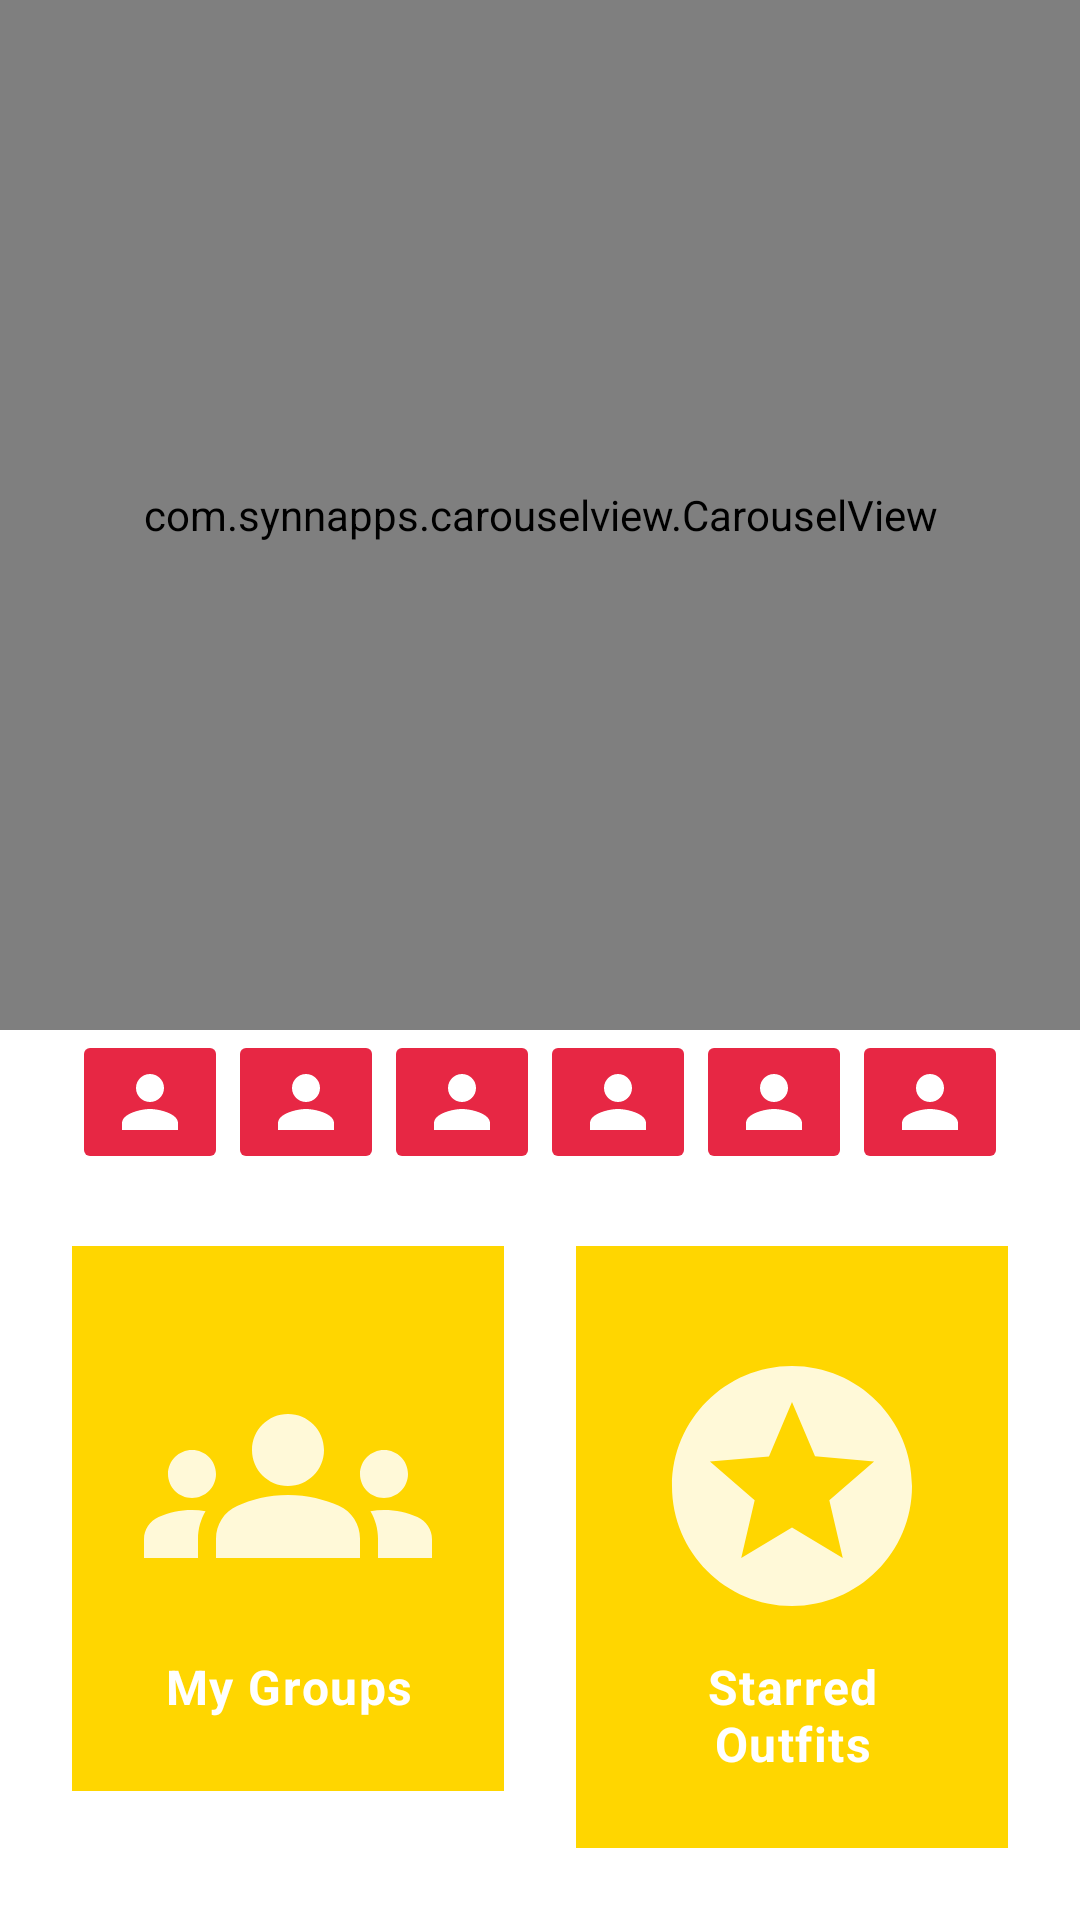

Icon bounding boxes for this 1080x1920 phone screenshot, format (x1, y1, x2, y2):
profile: (84, 1048, 216, 1156), (240, 1048, 372, 1156), (396, 1048, 528, 1156), (552, 1048, 684, 1156), (708, 1048, 840, 1156), (864, 1048, 996, 1156)
